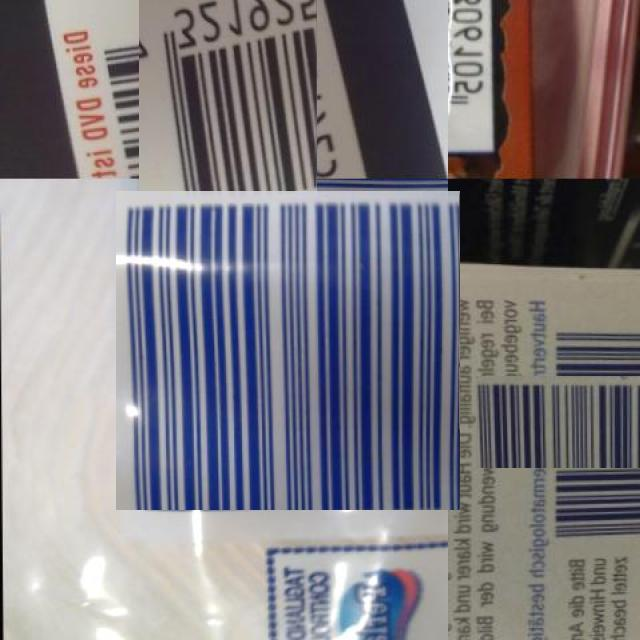Barcode: (122, 184, 454, 516), (92, 0, 366, 226), (512, 339, 640, 504)
